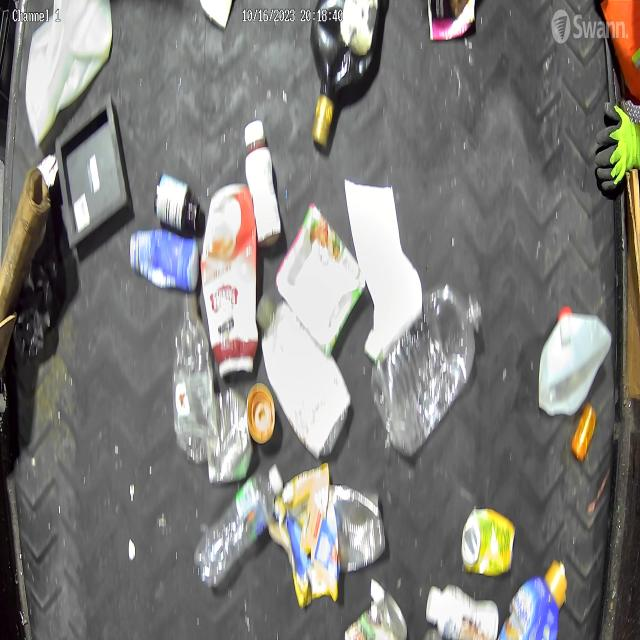can: (458, 492, 518, 583), (330, 482, 389, 569), (208, 384, 255, 488), (341, 593, 404, 640)
milk_jug: (24, 0, 115, 158), (536, 301, 606, 423)
plastic_bottle: (368, 280, 484, 456), (190, 459, 287, 598), (172, 292, 218, 469)
